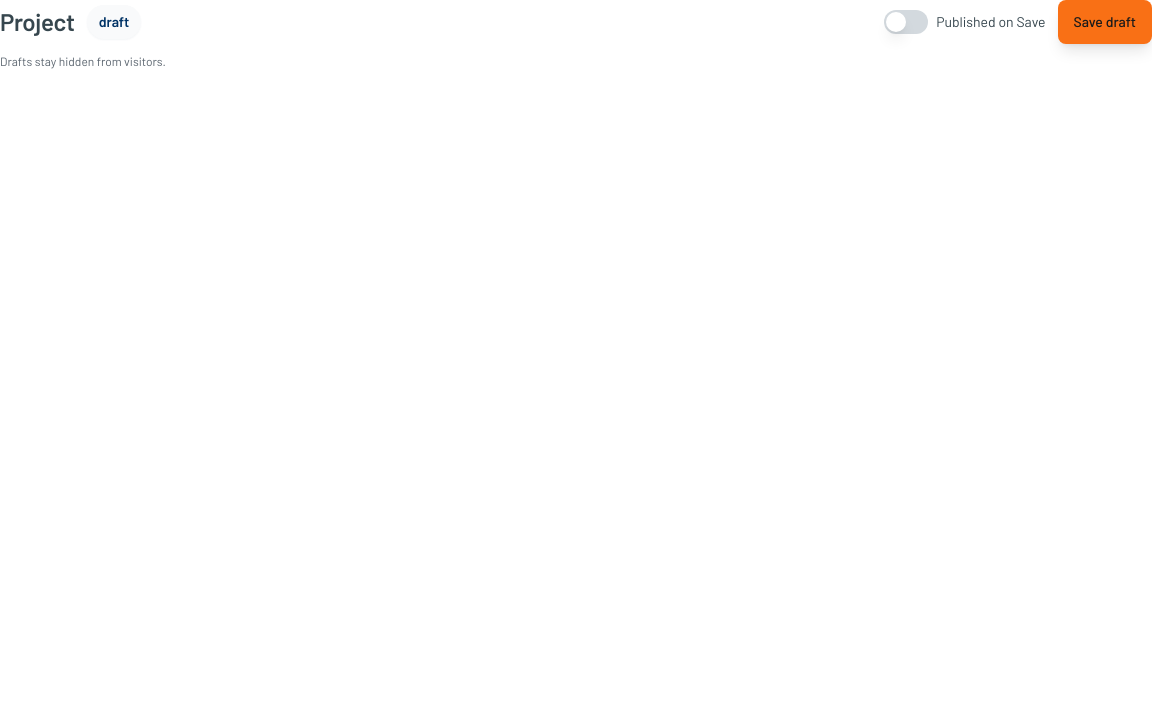
Test: staged publication control › requires confirmation and only stages the status, leaving writes to Save
Later steps or results of the test are not shown.
Click the switch at (906, 22), box [884,10,928,34]
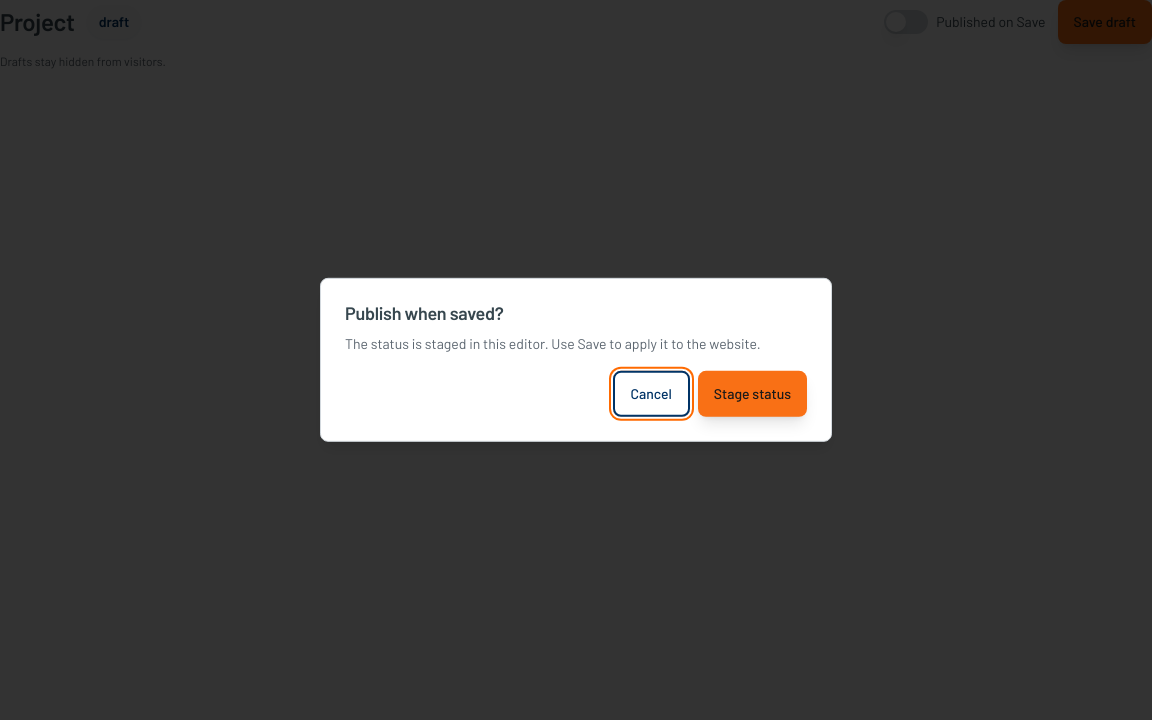
Now the dialog shows "Use Save to apply", box [345,334,760,351]
